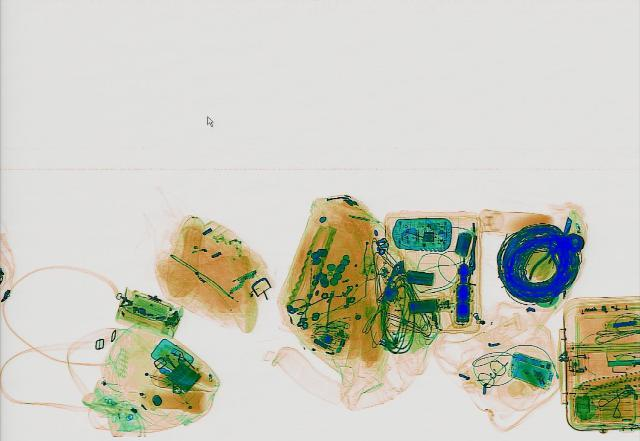Pliers: (526, 237, 574, 282)
